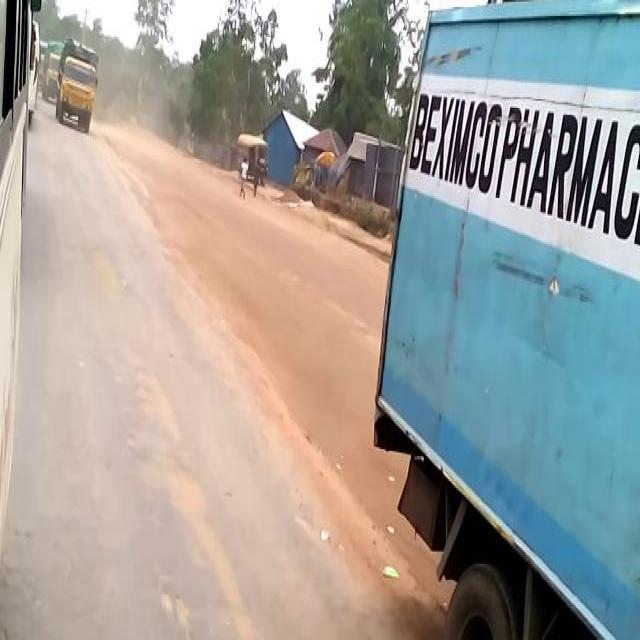18: (370, 6, 638, 634), (55, 36, 101, 135)
Truck: (1, 1, 30, 547), (28, 19, 40, 122), (42, 40, 62, 100)
